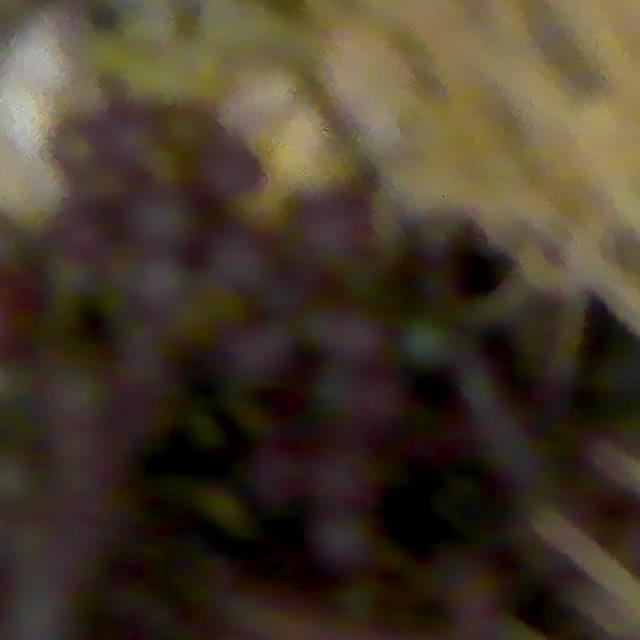SeaGrape: (310, 448, 379, 521), (298, 204, 369, 274), (45, 364, 111, 429), (223, 236, 285, 304), (326, 305, 389, 370), (157, 100, 221, 162), (202, 139, 258, 208), (135, 195, 193, 258), (45, 109, 99, 174), (312, 511, 372, 569), (353, 372, 412, 430), (132, 253, 188, 310), (0, 446, 38, 507)
